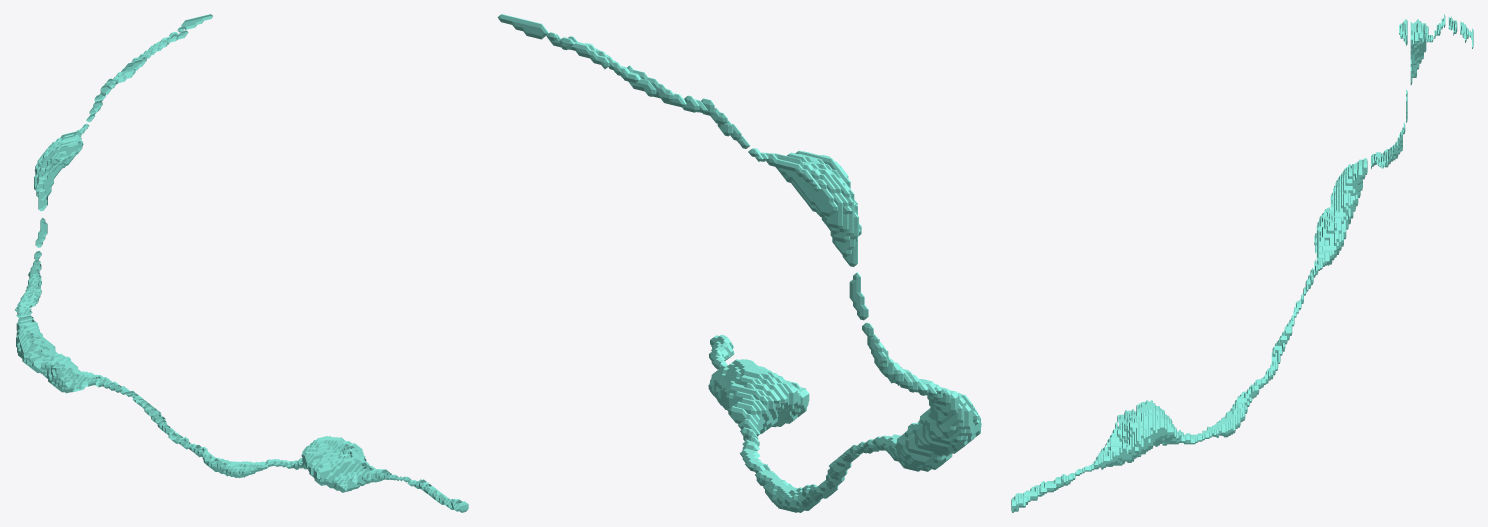
Rendered from SVV_DVC.gltf.
3 renders of one model, left to right at view 1: azimuth 30°, elevation 25°; view 2: azimuth 150°, elevation 25°; view 3: azimuth 270°, elevation 25°, orthographic. The views are drawn at different scales.
Parts seen in each view (by area): view 1: DVC; view 2: DVC; view 3: DVC.
Part boxes in pixels (x1,y1,x2,y2): DVC: (15,14,468,512); DVC: (497,14,982,512); DVC: (1011,14,1473,512).
Size of the model in its own units: 68650 by 78375 by 75427.
